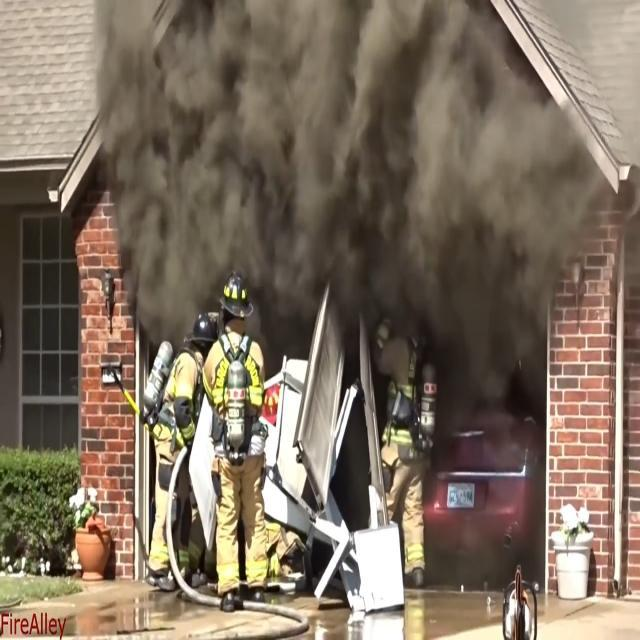Smoke: (121, 26, 584, 302)
